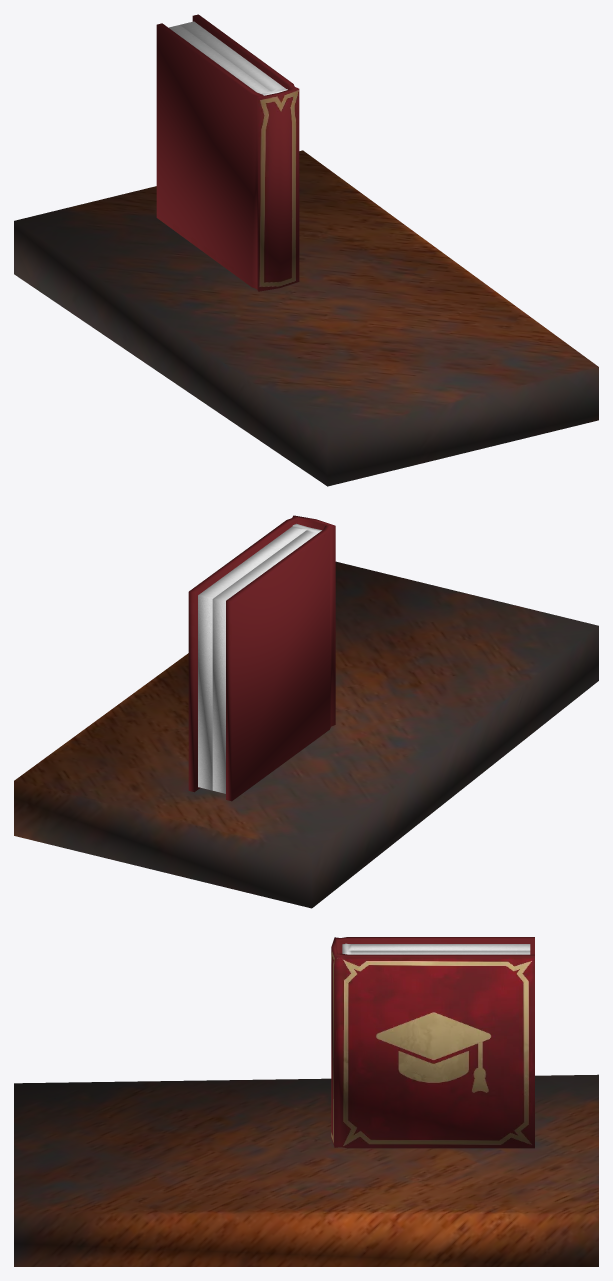
The model's file is libre.glb.
3 views of the same model, one above another, from view 1: azimuth 30°, elevation 25°; view 2: azimuth 150°, elevation 25°; view 3: azimuth 270°, elevation 25° (orthographic). The views are drawn at different scales.
Visible parts, largest first — view 1: Estante, Portada; view 2: Estante, Portada; view 3: Estante, Portada.
Part boxes in pixels (x1=…): Estante: x1=14, y1=150, x2=598, y2=486; Portada: x1=156, y1=14, x2=299, y2=291; Estante: x1=14, y1=561, x2=598, y2=908; Portada: x1=188, y1=515, x2=335, y2=801; Estante: x1=14, y1=1074, x2=598, y2=1266; Portada: x1=331, y1=937, x2=534, y2=1148.
Size of the model in its own units: 0.2055 by 0.1674 by 0.3645.
2 materials, 2 textured.
